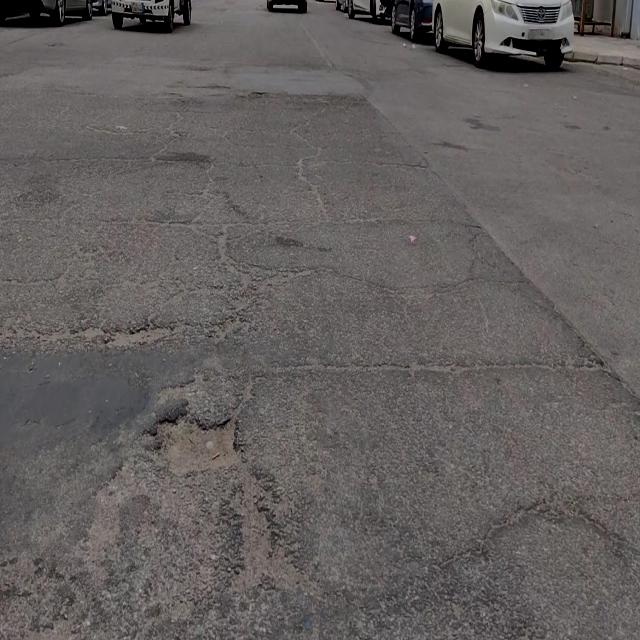Potholes: (154, 397, 247, 478)
